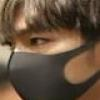mask: (6, 53, 100, 100)
